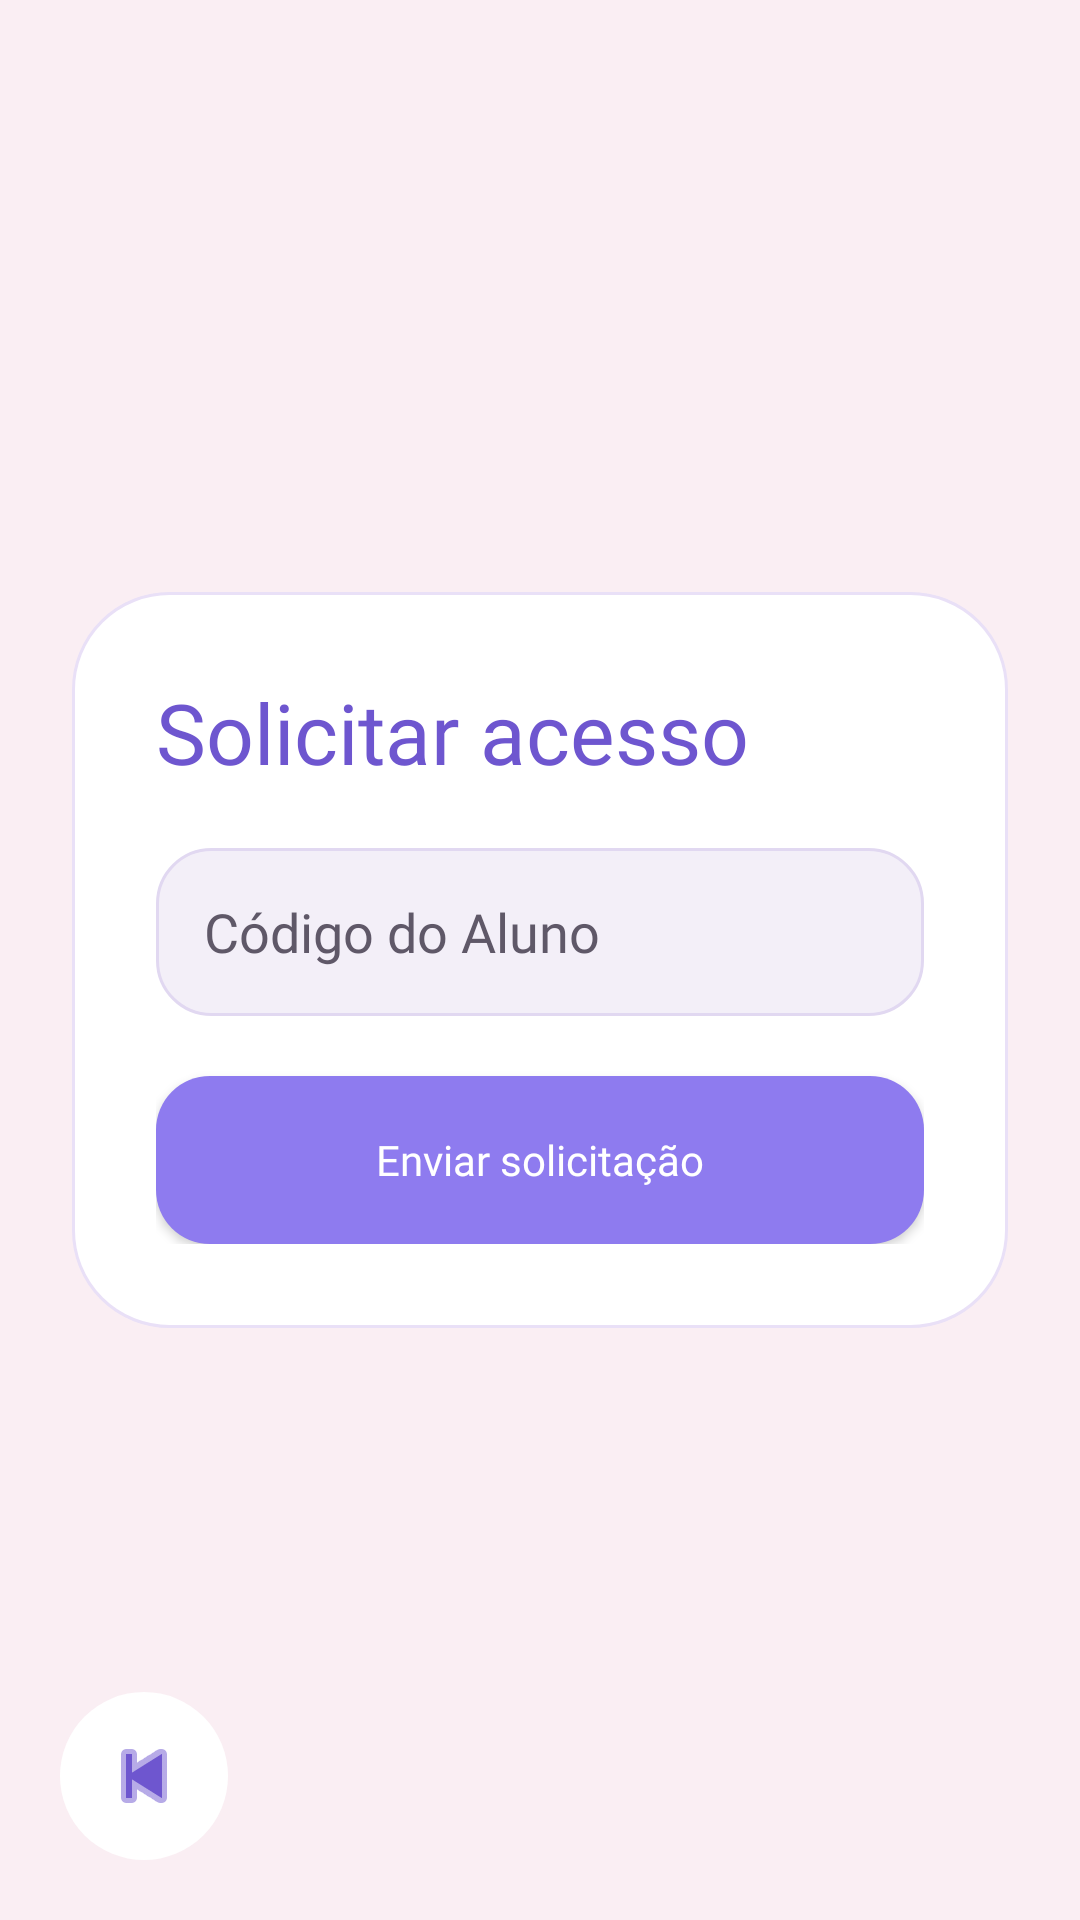

Icons on this 1080w x 1920h Android screen, each with its box as {"x1": x1, "y1": y1, "x2": x2, "y2": y2}:
previous: {"x1": 121, "y1": 1749, "x2": 167, "y2": 1803}
